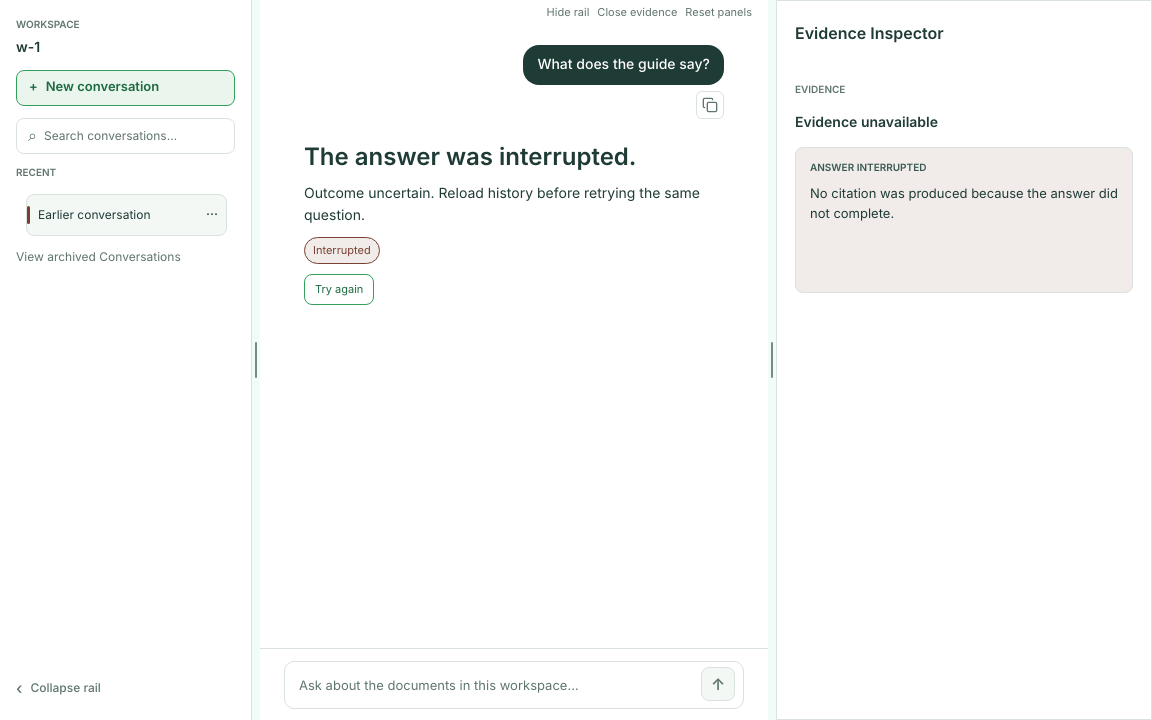
Scenario: durable Conversation view › checks authoritative interrupted history before restoring an interrupted question without posting
This screenshot has width=1152, height=720.
Check: the button "Try again" is shown, box [304,274,374,305]
In the text box named "Question": (496, 686) [299,664,693,708], type "Keep my other draft"
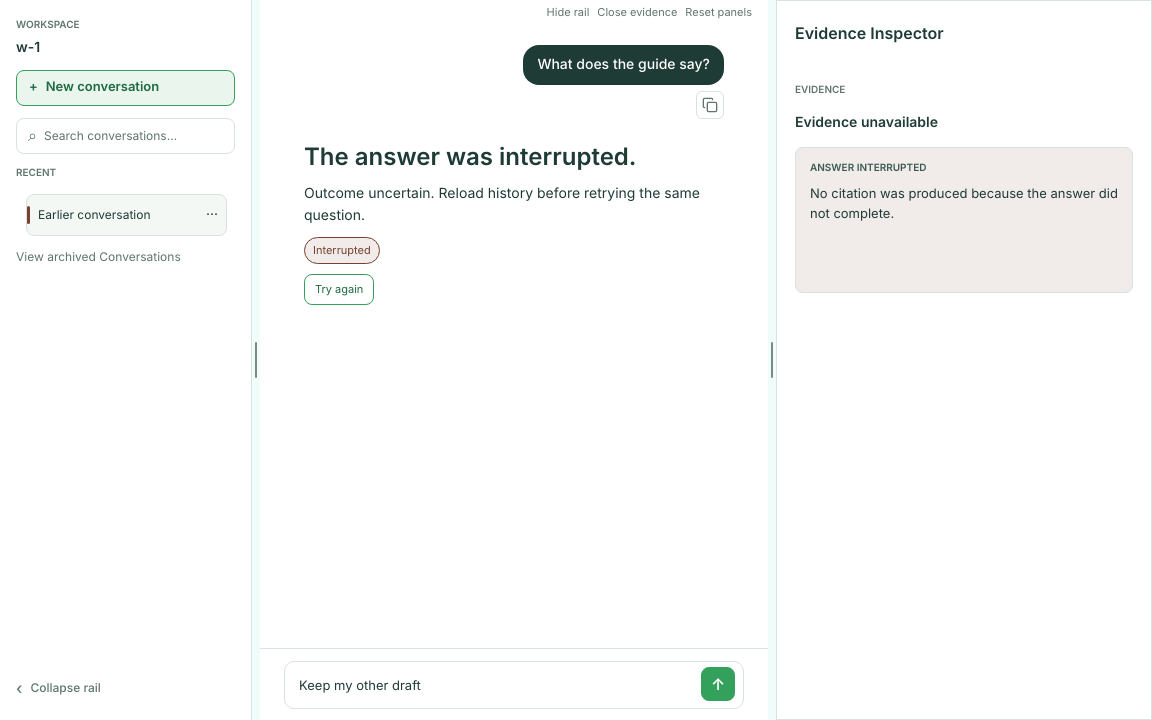
Click the button "Try again": (339, 290) [304,274,374,305]
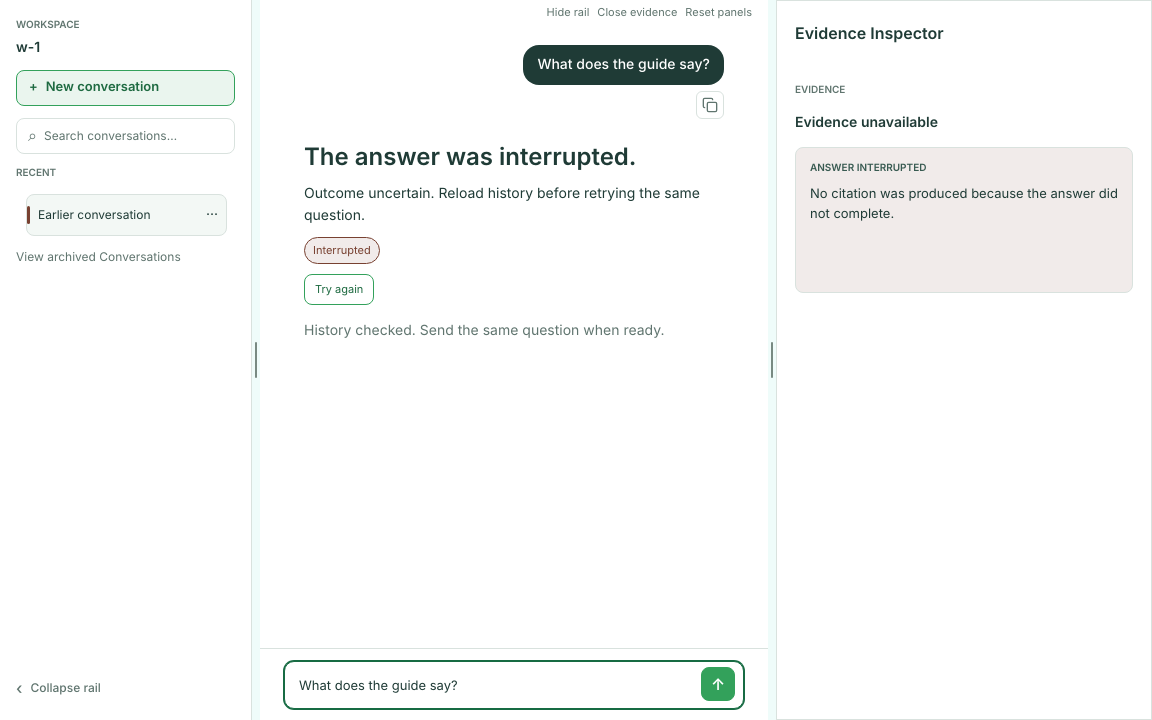
Check: the text "History checked. Send the same question when ready." is shown, box [304,321,724,341]
Check: the text box named "Question" holds "What does the guide say?", box [299,664,693,708]
